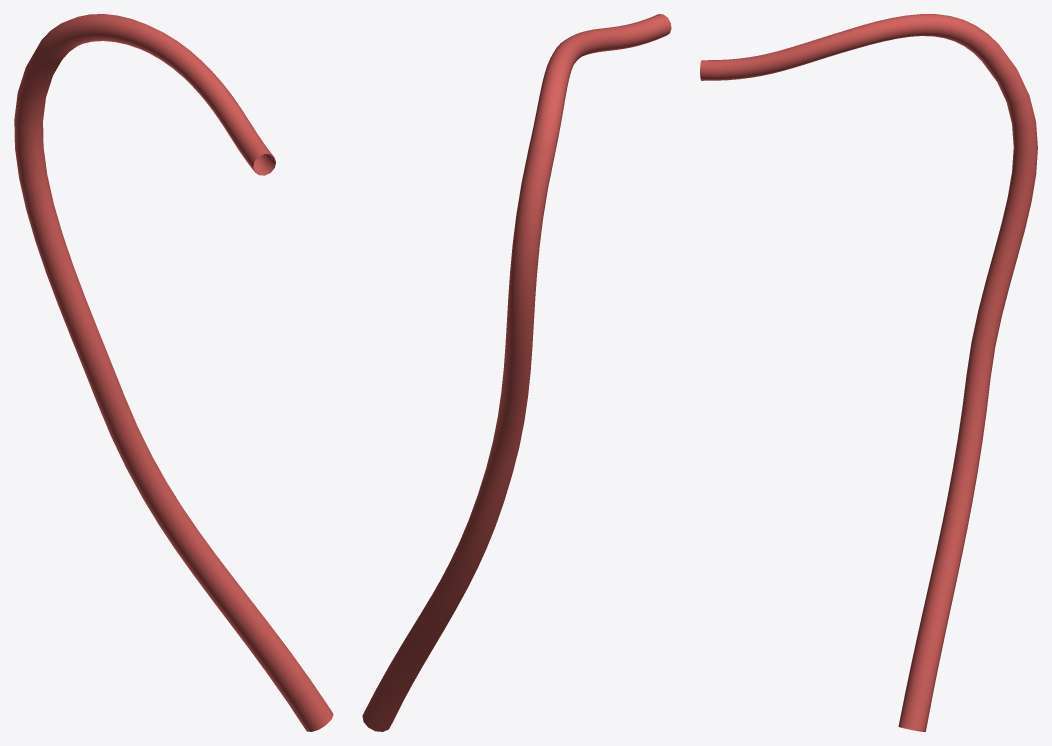
3 views of the same model, side by side, from view 1: azimuth 30°, elevation 25°; view 2: azimuth 150°, elevation 25°; view 3: azimuth 270°, elevation 25° (orthographic). The views are drawn at different scales.
Parts seen in each view (by area): view 1: 右侧旋肩胛动脉; view 2: 右侧旋肩胛动脉; view 3: 右侧旋肩胛动脉.
Part boxes in pixels (left/top/right/bottom): 右侧旋肩胛动脉: left=14, top=14, right=333, bottom=731; 右侧旋肩胛动脉: left=362, top=14, right=671, bottom=731; 右侧旋肩胛动脉: left=700, top=14, right=1037, bottom=731.
Bounding box in the file's own units: 0.0207 × 0.0599 × 0.0286.
